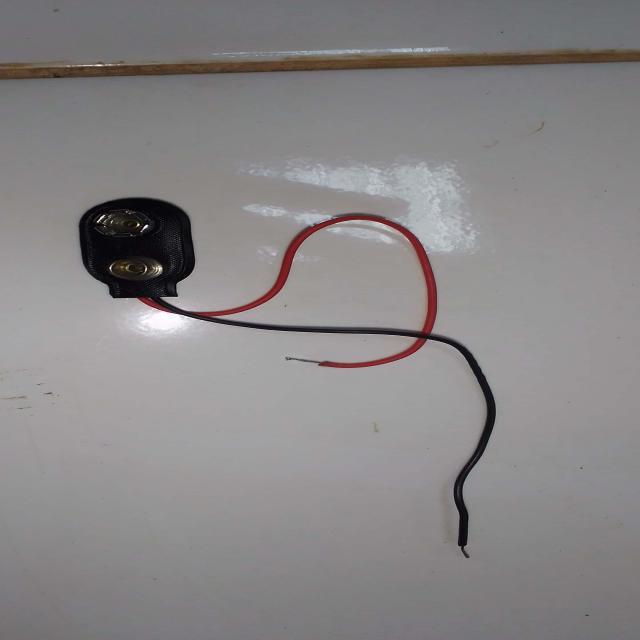Battery Holder: (38, 195, 515, 412)
